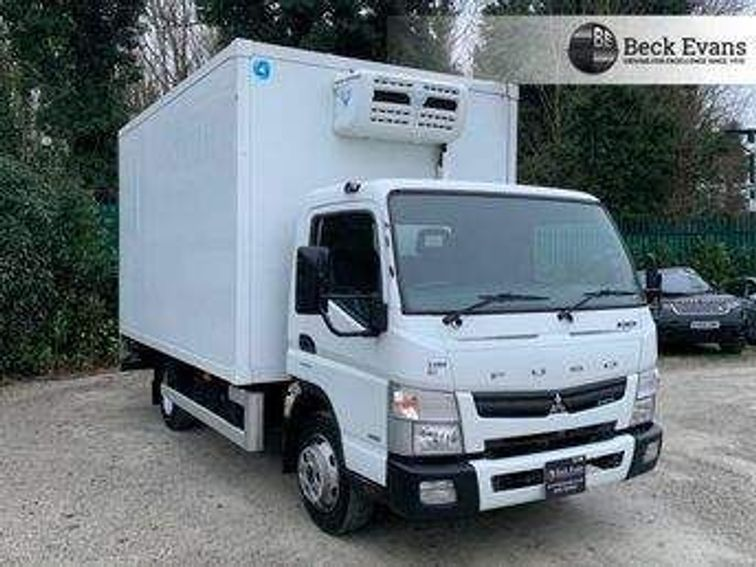Semi: (118, 38, 663, 532)
